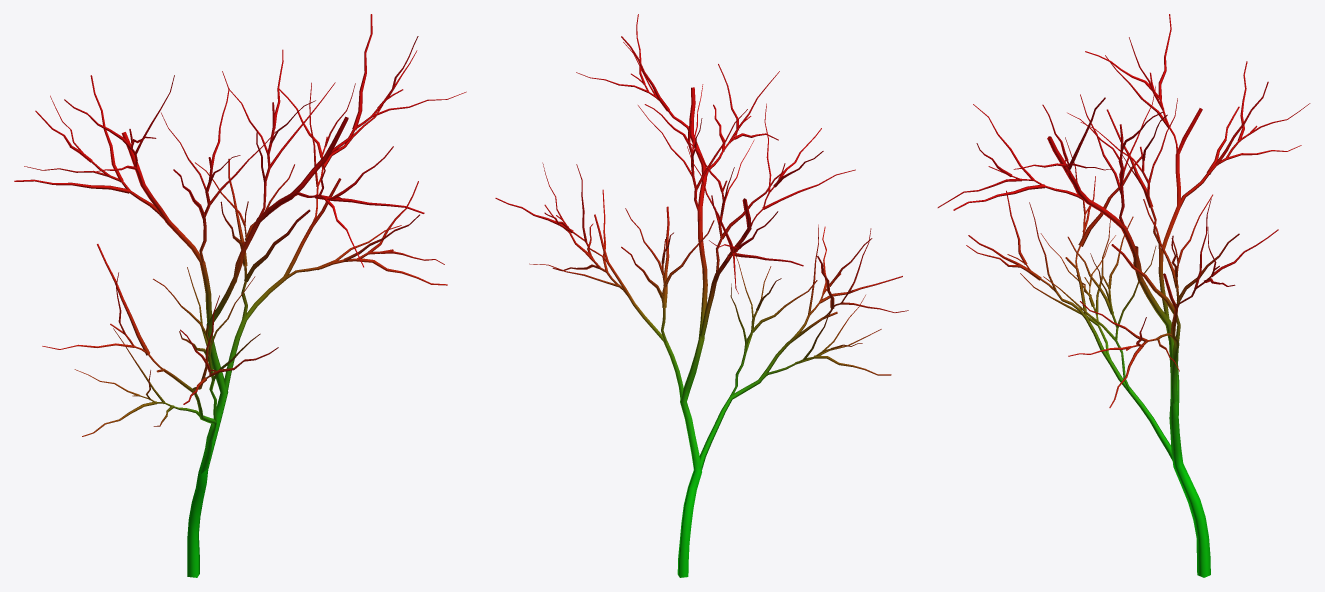
File: Rose Hip_LOD2_Var11.fbx
3 views of the same model, side by side, from view 1: azimuth 30°, elevation 25°; view 2: azimuth 150°, elevation 25°; view 3: azimuth 270°, elevation 25° (orthographic). The views are drawn at different scales.
Parts seen in each view (by area): view 1: _da0u_Var11_LOD2; view 2: _da0u_Var11_LOD2; view 3: _da0u_Var11_LOD2.
Boxes of the visible parts, <box> form: _da0u_Var11_LOD2: <box>14,14,466,577</box>; _da0u_Var11_LOD2: <box>495,14,908,577</box>; _da0u_Var11_LOD2: <box>937,14,1310,577</box>.
Bounding box in the file's own units: 59.01 × 77.34 × 48.86.
